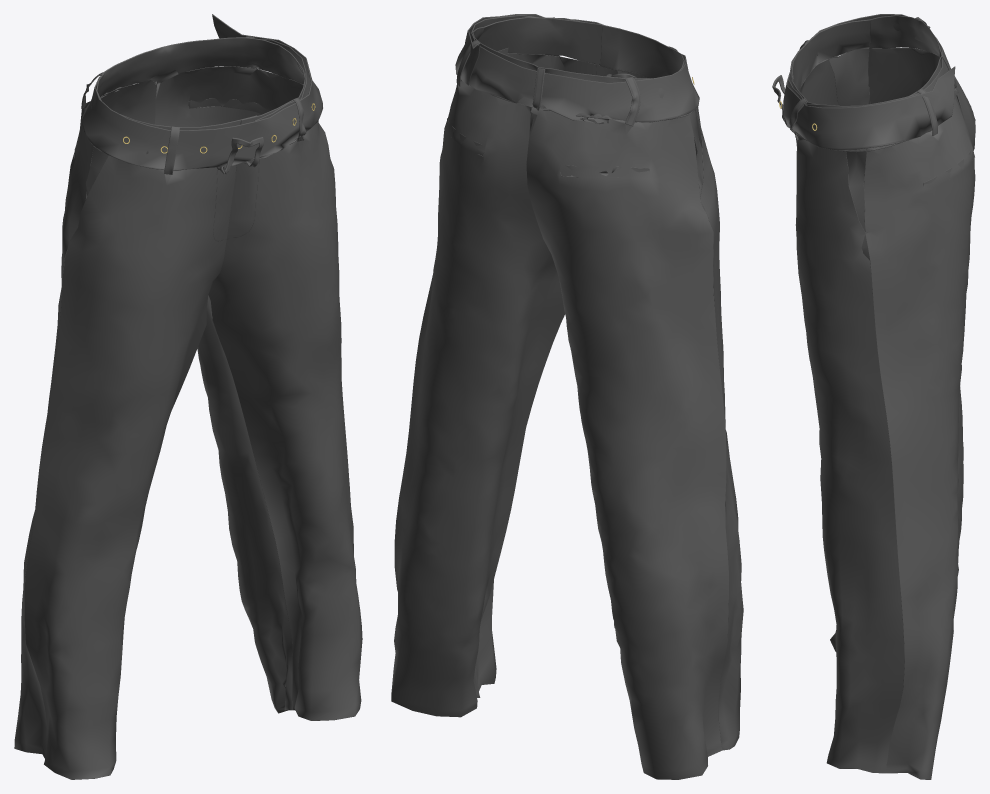
File: tofferpantsuvmap.fbx
3 renders of one model, left to right at view 1: azimuth 30°, elevation 25°; view 2: azimuth 150°, elevation 25°; view 3: azimuth 270°, elevation 25°, orthographic. The views are drawn at different scales.
Parts seen in each view (by area): view 1: 凯信-Toffe pants_右前片_5, 凯信-Toffe pants_左前片_3, 凯信-Toffe pants_后片_4, 凯信-Toffe pants_朴*1腰带_2, 凯信-Toffe pants_后片_1, 凯信-Toffe pants_朴*1后腰, 凯信-Toffe pants_朴*2后口袋_3; view 2: 凯信-Toffe pants_后片_1, 凯信-Toffe pants_后片_4, 凯信-Toffe pants_朴*1腰带_2, 凯信-Toffe pants_右前片_5, 凯信-Toffe pants_朴*1左前腰, 凯信-Toffe pants_朴*1右前腰_2, 凯信-Toffe pants_左前片_3, 凯信-Toffe pants_朴*1后腰; view 3: 凯信-Toffe pants_后片_4, 凯信-Toffe pants_左前片_3, 凯信-Toffe pants_朴*1腰带_2, 凯信-Toffe pants_后片_1, 凯信-Toffe pants_朴*1右前腰_2, 凯信-Toffe pants_朴*1后腰, 凯信-Toffe pants_手心袋布_4, 凯信-Toffe pants_右前片_5, 凯信-Toffe pants_手心袋布_3.
Part boxes in pixels (left/top/right/bottom): 凯信-Toffe pants_右前片_5: left=24, top=155, right=236, bottom=779; 凯信-Toffe pants_左前片_3: left=208, top=120, right=362, bottom=720; 凯信-Toffe pants_后片_4: left=155, top=66, right=303, bottom=713; 凯信-Toffe pants_朴*1腰带_2: left=82, top=14, right=322, bottom=170; 凯信-Toffe pants_后片_1: left=14, top=80, right=156, bottom=758; 凯信-Toffe pants_朴*1后腰: left=90, top=37, right=304, bottom=146; 凯信-Toffe pants_朴*2后口袋_3: left=188, top=98, right=269, bottom=114; 凯信-Toffe pants_后片_1: left=526, top=108, right=728, bottom=779; 凯信-Toffe pants_后片_4: left=391, top=80, right=564, bottom=717; 凯信-Toffe pants_朴*1腰带_2: left=455, top=14, right=699, bottom=124; 凯信-Toffe pants_右前片_5: left=617, top=70, right=743, bottom=750; 凯信-Toffe pants_朴*1左前腰: left=478, top=17, right=619, bottom=65; 凯信-Toffe pants_朴*1右前腰_2: left=600, top=25, right=695, bottom=114; 凯信-Toffe pants_左前片_3: left=403, top=53, right=617, bottom=690; 凯信-Toffe pants_朴*1后腰: left=472, top=27, right=689, bottom=120; 凯信-Toffe pants_后片_4: left=864, top=90, right=975, bottom=779; 凯信-Toffe pants_左前片_3: left=795, top=136, right=904, bottom=773; 凯信-Toffe pants_朴*1腰带_2: left=783, top=14, right=955, bottom=150; 凯信-Toffe pants_后片_1: left=868, top=48, right=975, bottom=562; 凯信-Toffe pants_朴*1右前腰_2: left=791, top=19, right=870, bottom=91; 凯信-Toffe pants_朴*1后腰: left=866, top=15, right=955, bottom=151; 凯信-Toffe pants_手心袋布_4: left=829, top=48, right=870, bottom=105; 凯信-Toffe pants_右前片_5: left=799, top=52, right=864, bottom=651; 凯信-Toffe pants_手心袋布_3: left=846, top=151, right=871, bottom=272.
Bounding box in the file's own units: 48.75 × 98.18 × 26.87.
Materials: 2 (1 with a texture image).
